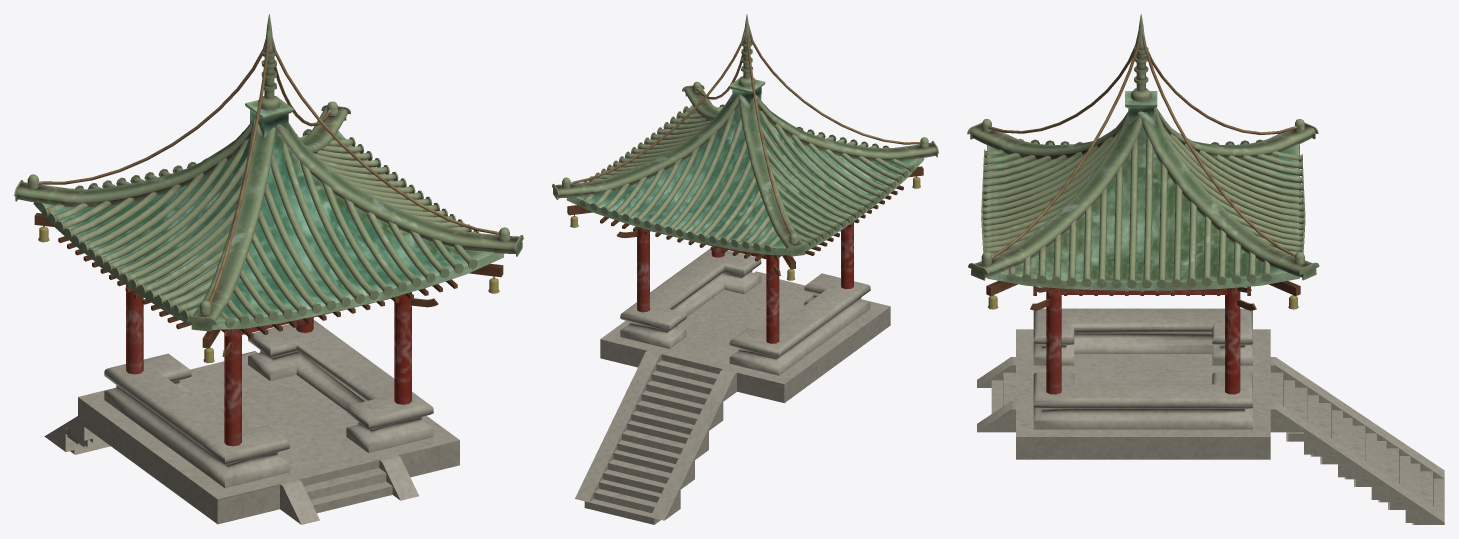
The model's file is Pavillion_1.FBX.
3 renders of one model, left to right at view 1: azimuth 30°, elevation 25°; view 2: azimuth 150°, elevation 25°; view 3: azimuth 270°, elevation 25°, orthographic. The views are drawn at different scales.
Visible parts, largest first — view 1: Pavillion_1; view 2: Pavillion_1; view 3: Pavillion_1.
Part boxes in pixels (box(x1,y1,x2,y2)): Pavillion_1: box(14, 14, 523, 524); Pavillion_1: box(552, 14, 938, 524); Pavillion_1: box(967, 14, 1444, 524).
Size of the model in its own units: 263 by 401 by 354.
